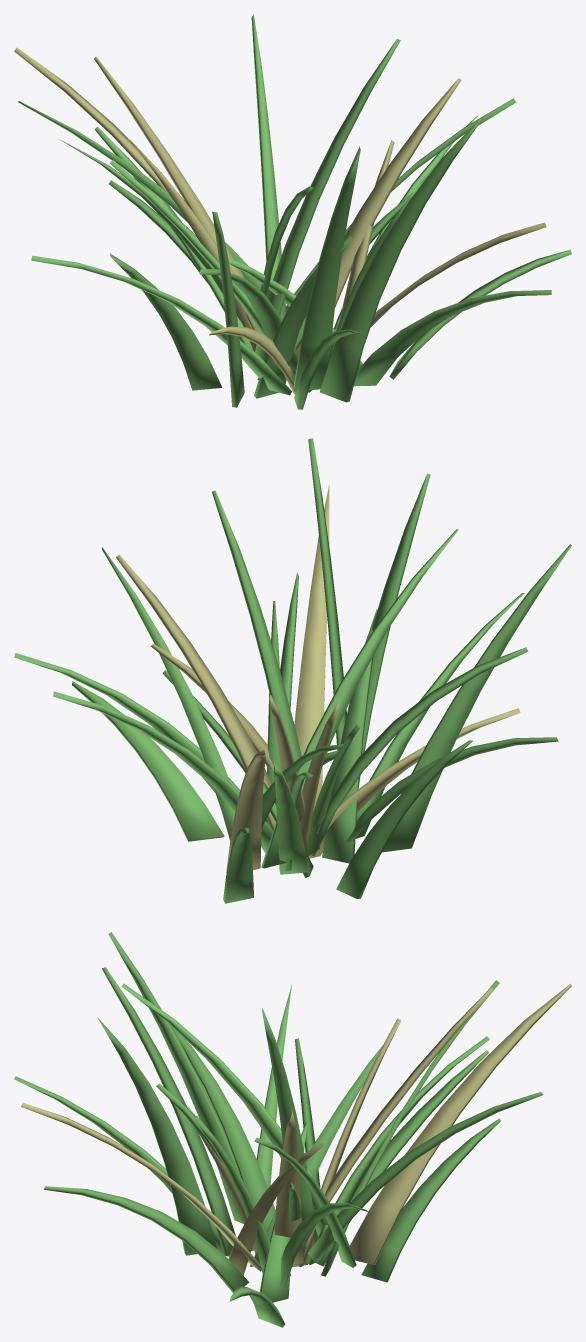
File: tuft_1.glb
3 renders of one model, top to bottom at view 1: azimuth 30°, elevation 25°; view 2: azimuth 150°, elevation 25°; view 3: azimuth 270°, elevation 25°, orthographic. The views are drawn at different scales.
Parts seen in each view (by area): view 1: tuft; view 2: tuft; view 3: tuft.
Boxes of the visible parts, x1,y1,x2,y2 form: tuft: (14,14,571,409); tuft: (14,438,571,903); tuft: (14,932,571,1327).
Bounding box in the file's own units: 0.6865 × 0.4373 × 0.7056.
